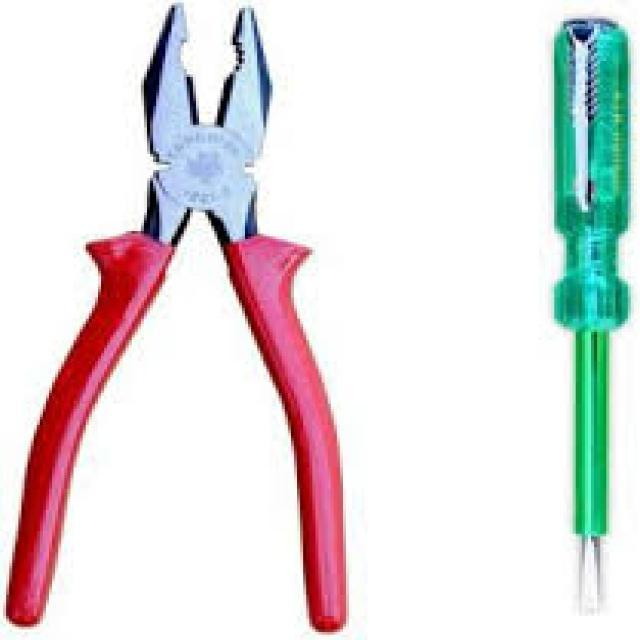pliers: (19, 0, 378, 622)
screwdriver: (528, 10, 637, 625)
